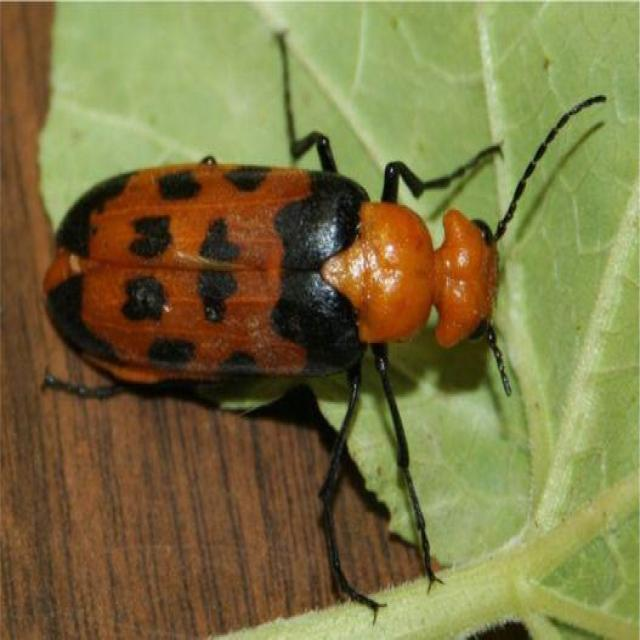BlisterBeetle-Adult-: (20, 70, 615, 444)
